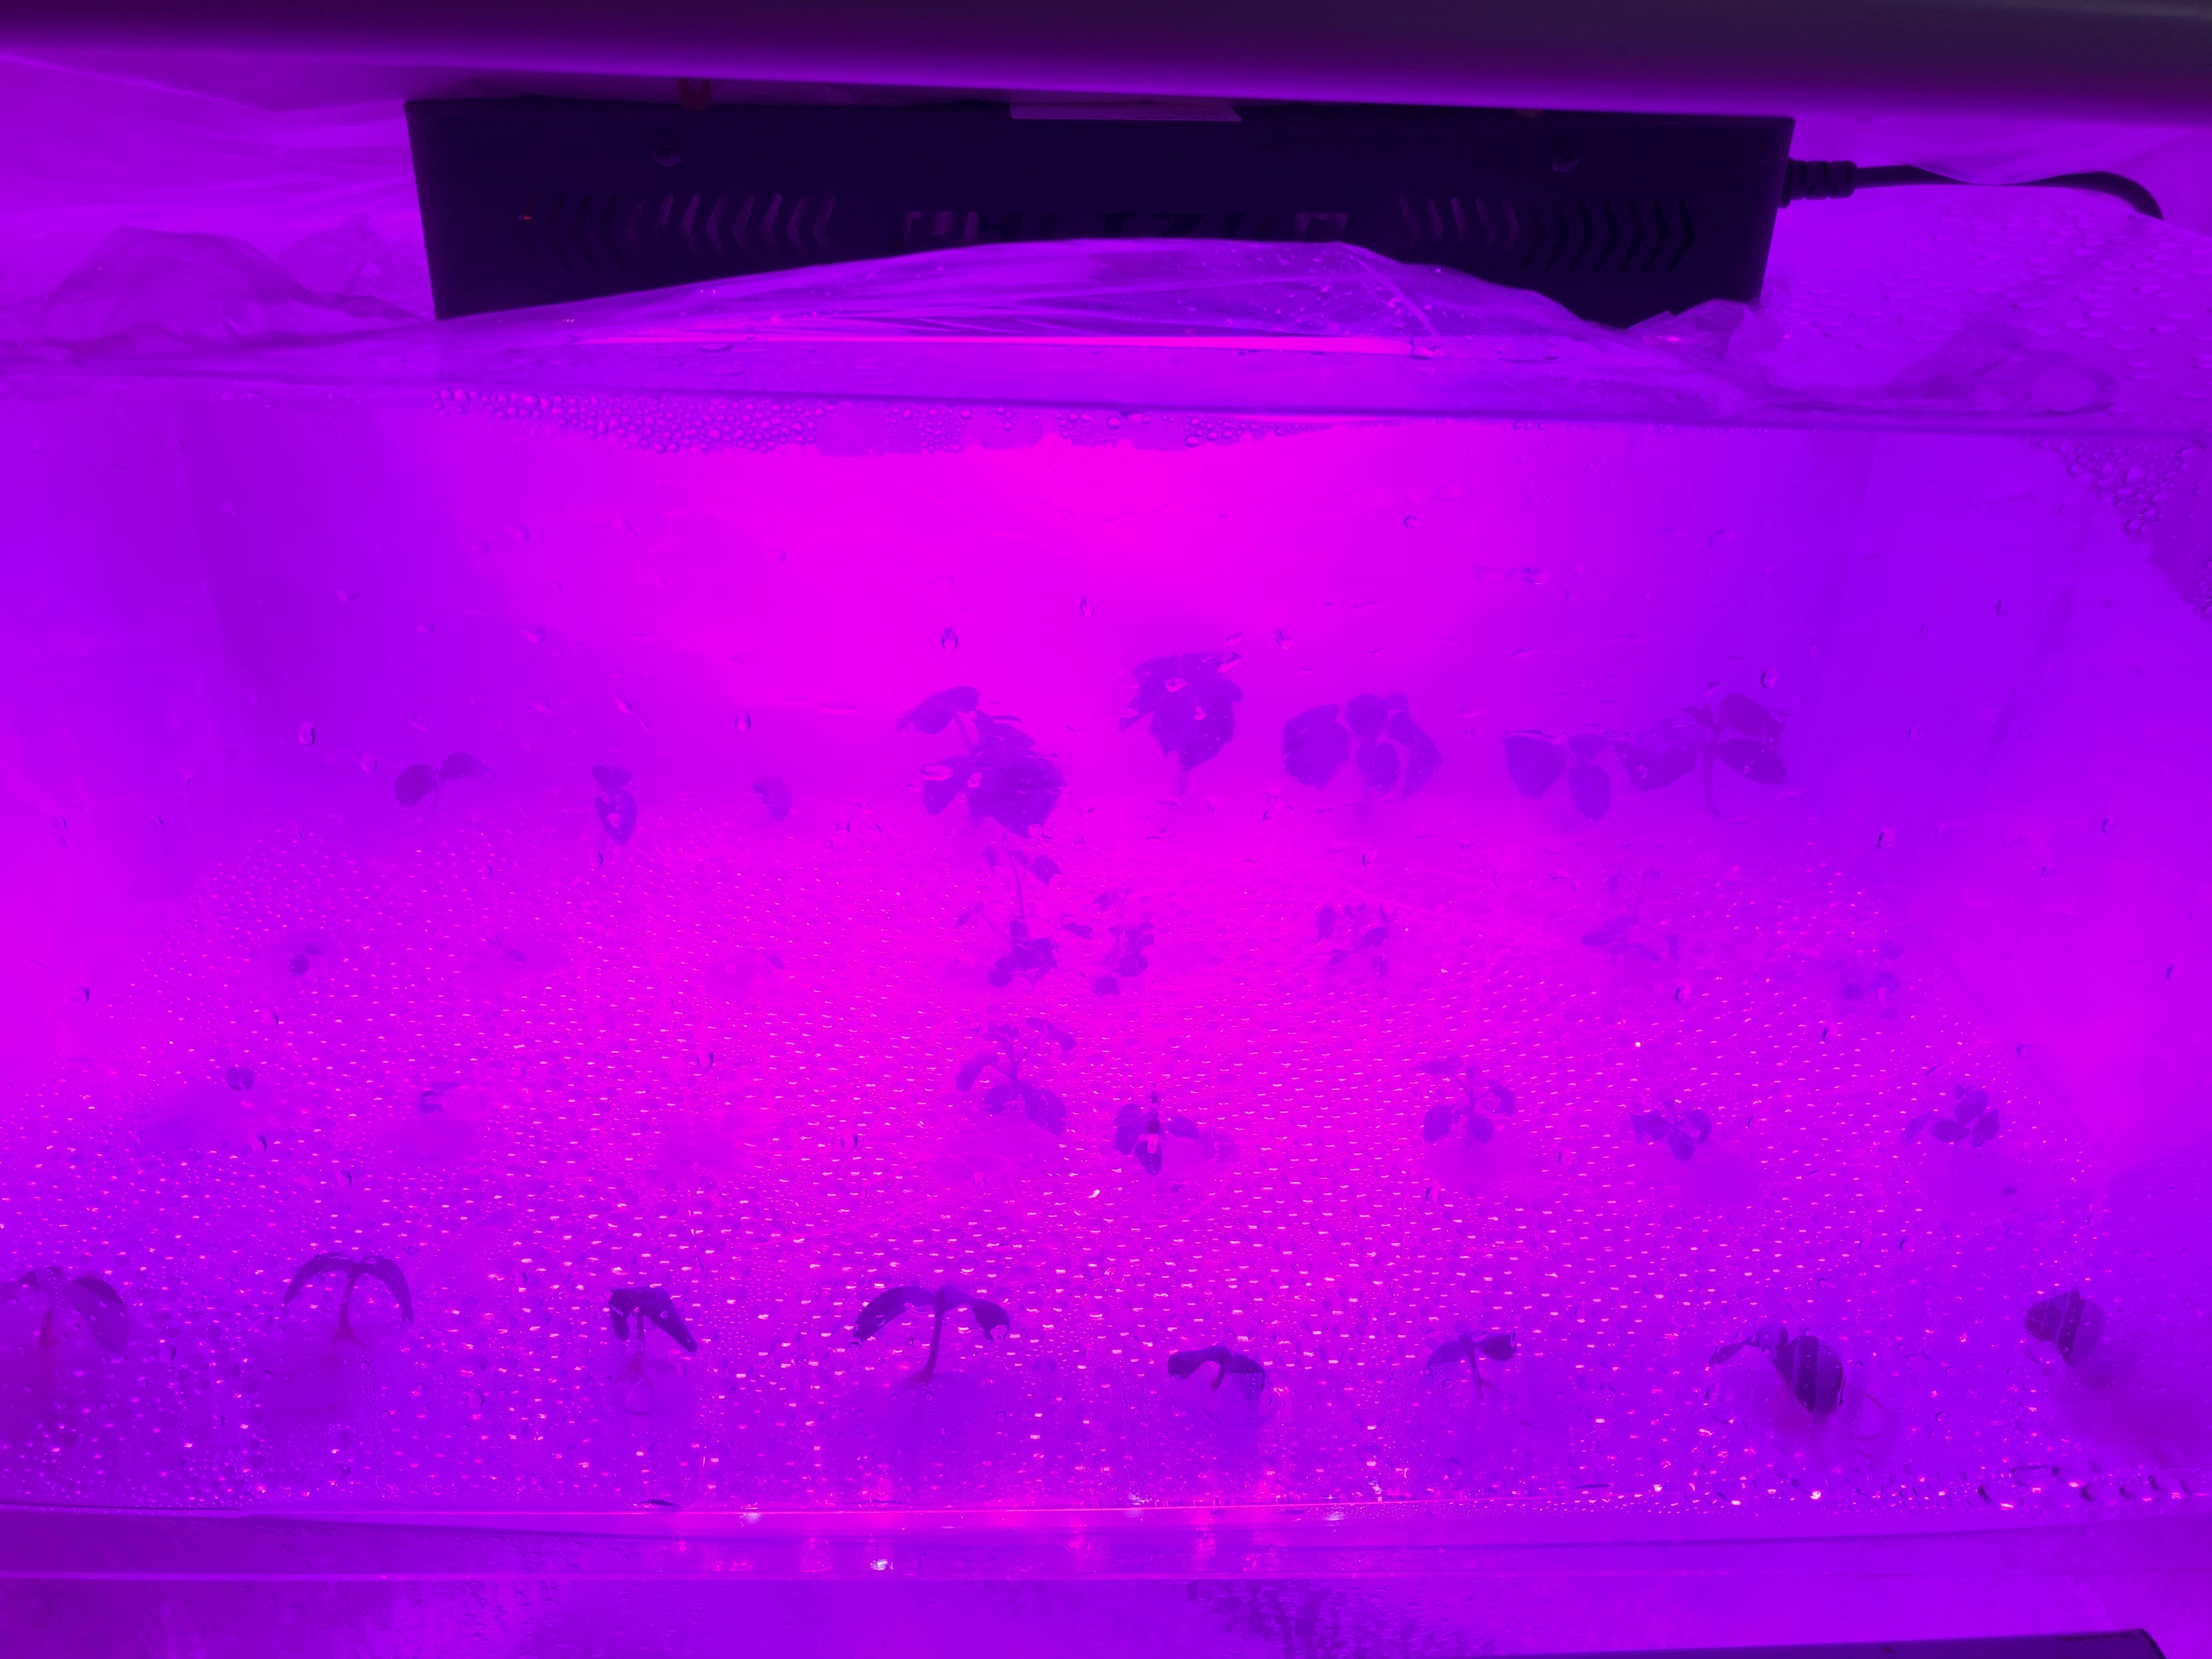lil_plant: (1557, 633, 1836, 922), (1066, 568, 1292, 840), (1500, 800, 1731, 1037), (864, 685, 1132, 877), (1461, 640, 1644, 892), (1278, 657, 1480, 878), (1054, 1006, 1249, 1223), (906, 992, 1118, 1190), (932, 817, 1111, 1039), (1360, 997, 1547, 1194), (1831, 1044, 2001, 1223), (1578, 1063, 1752, 1216), (1273, 877, 1428, 1039), (364, 725, 528, 856)
seedling: (1639, 1251, 1909, 1476), (517, 1230, 779, 1445), (1963, 1243, 2181, 1473), (1371, 1253, 1578, 1490), (225, 1206, 493, 1387), (1103, 1253, 1296, 1486), (819, 1241, 1043, 1427), (2, 1251, 155, 1427), (244, 904, 373, 1014)
